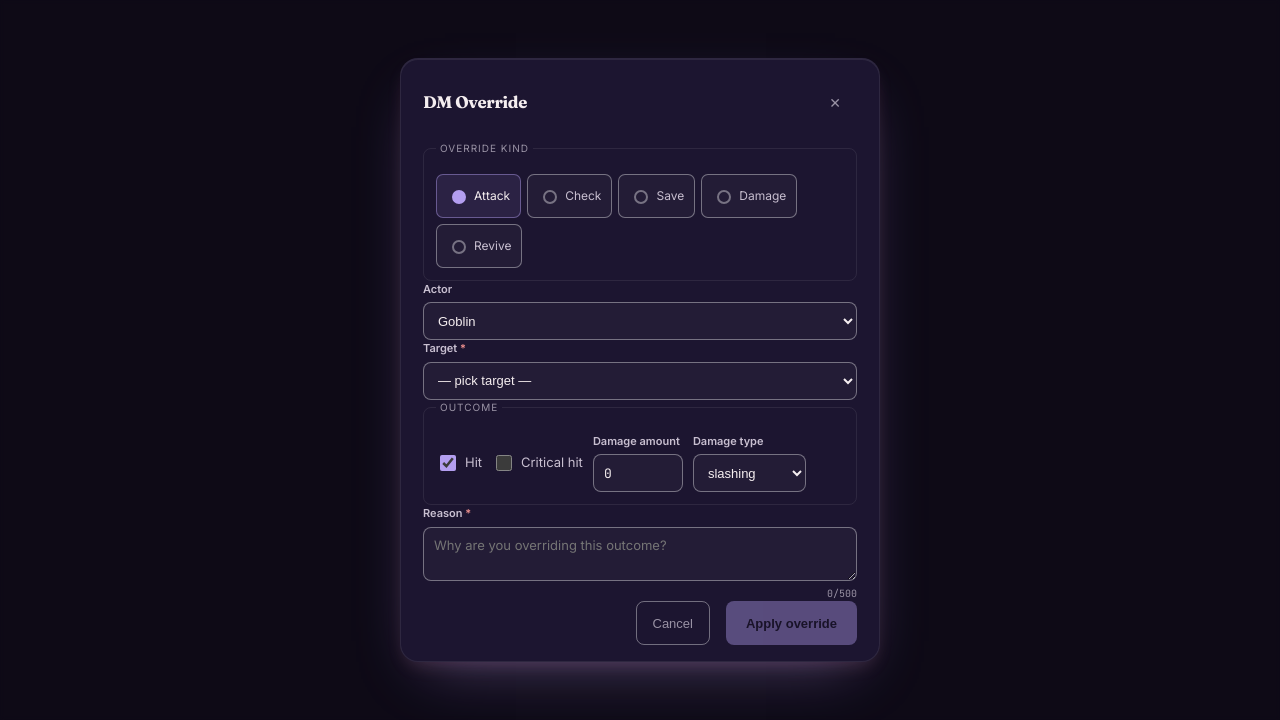
Scenario: kind + list › several fallen: nothing preselected, no HP field value yet
What coordinates should you click on to do the following:
click the radio button labelled "Revive"
I would click on:
 (459, 247)
Its box is [452,240,466,254].
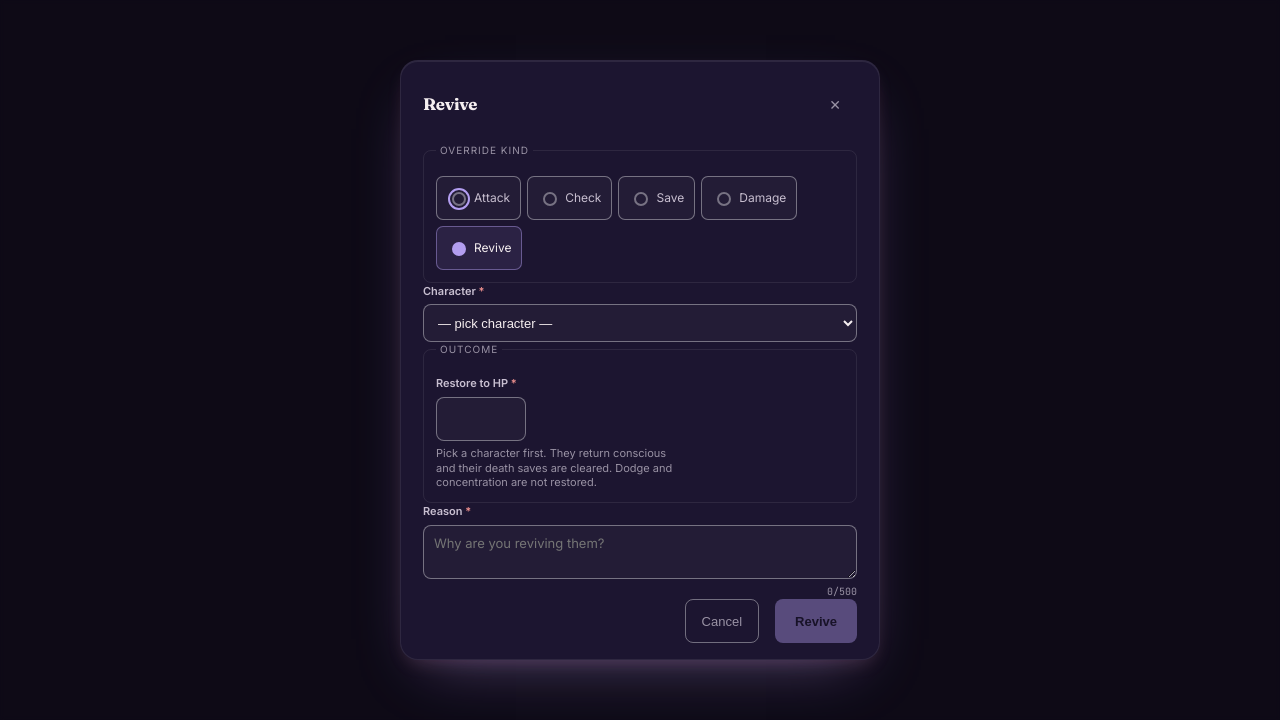
Result: the dropdown labelled "Character *" shows "— pick character —" at [423,304,857,342]
Result: the number field labelled "Restore to HP *" is empty at [436,397,526,441]
